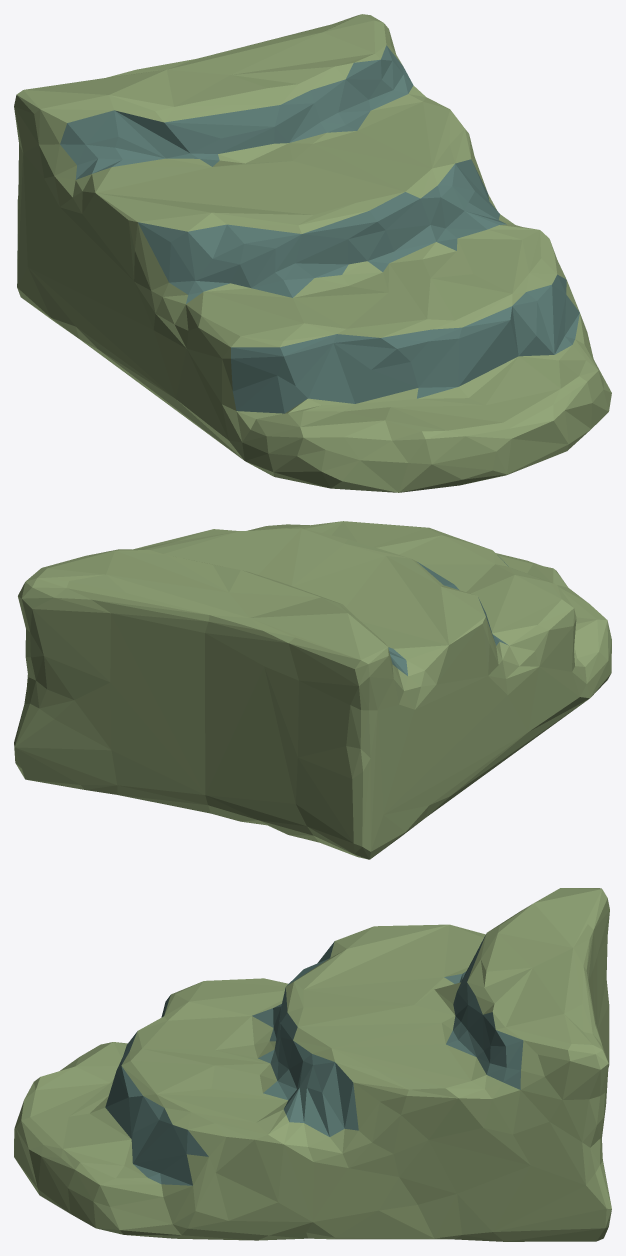
File: T road2.fbx
3 views of the same model, one above another, from view 1: azimuth 30°, elevation 25°; view 2: azimuth 150°, elevation 25°; view 3: azimuth 270°, elevation 25° (orthographic). The views are drawn at different scales.
Parts seen in each view (by area): view 1: _T__road-边路; view 2: _T__road-边路; view 3: _T__road-边路.
Boxes of the visible parts, box(x1,y1,x2,y2) form: _T__road-边路: box(14, 14, 611, 492); _T__road-边路: box(14, 521, 611, 859); _T__road-边路: box(14, 888, 611, 1241).
Size of the model in its own units: 208 by 118 by 317.
